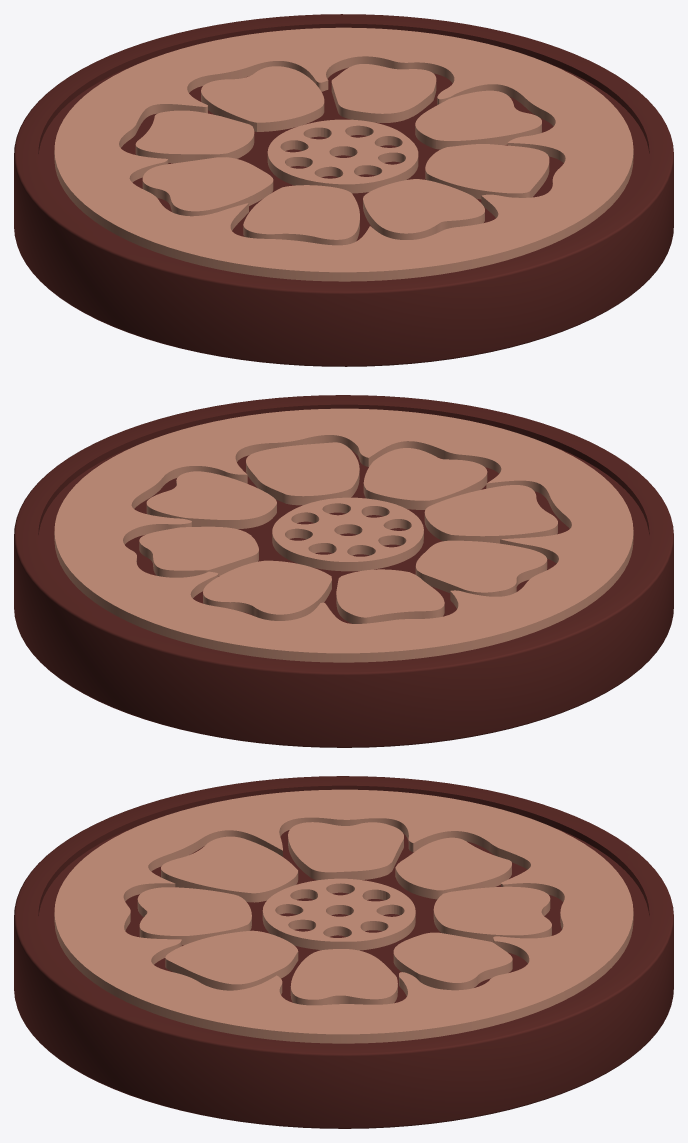
The model's file is WhiteLotus_R.fbx.
The picture shows the model from 3 angles, top to bottom: view 1: azimuth 30°, elevation 25°; view 2: azimuth 150°, elevation 25°; view 3: azimuth 270°, elevation 25°; orthographic projection.
Parts seen in each view (by area): view 1: Tile01; view 2: Tile01; view 3: Tile01.
Part boxes in pixels (x1,y1,x2,y2): Tile01: (14,14,673,366); Tile01: (14,395,673,747); Tile01: (14,776,673,1128).
Bounding box in the file's own units: 13.25 × 1.73 × 13.25.
